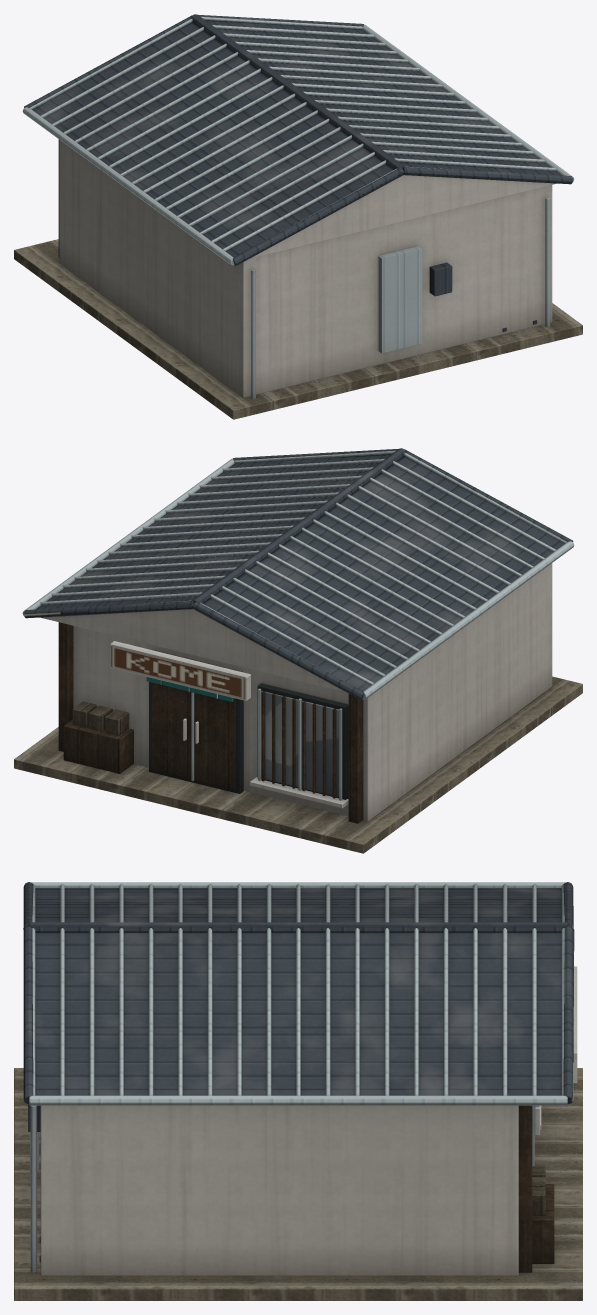
Rendered from shop_002.obj.
The picture shows the model from 3 angles, top to bottom: view 1: azimuth 30°, elevation 25°; view 2: azimuth 150°, elevation 25°; view 3: azimuth 270°, elevation 25°; orthographic projection. The views are drawn at different scales.
Visible parts, largest first — view 1: shop_002; view 2: shop_002; view 3: shop_002.
Boxes of the visible parts, <box> form: shop_002: <box>14,14,582,419</box>; shop_002: <box>14,448,582,853</box>; shop_002: <box>14,882,582,1300</box>.
Size of the model in its own units: 6.9 by 3.9 by 7.5.
Materials: 1 (1 with a texture image).
